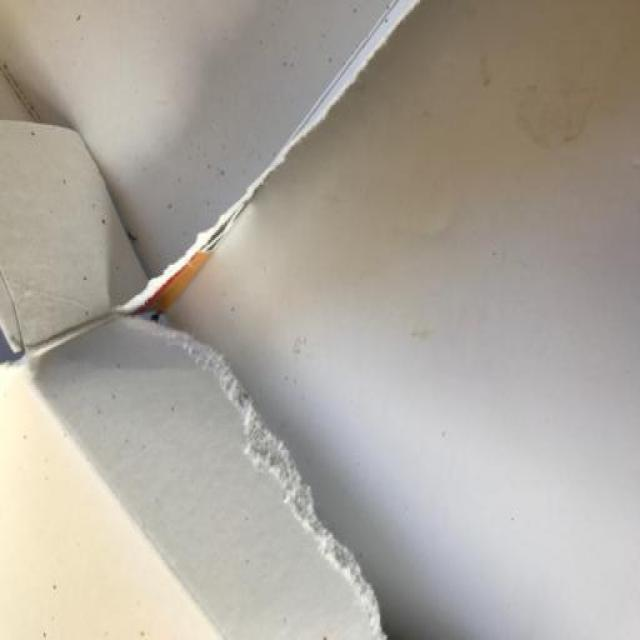cardboard: (3, 9, 640, 640)
